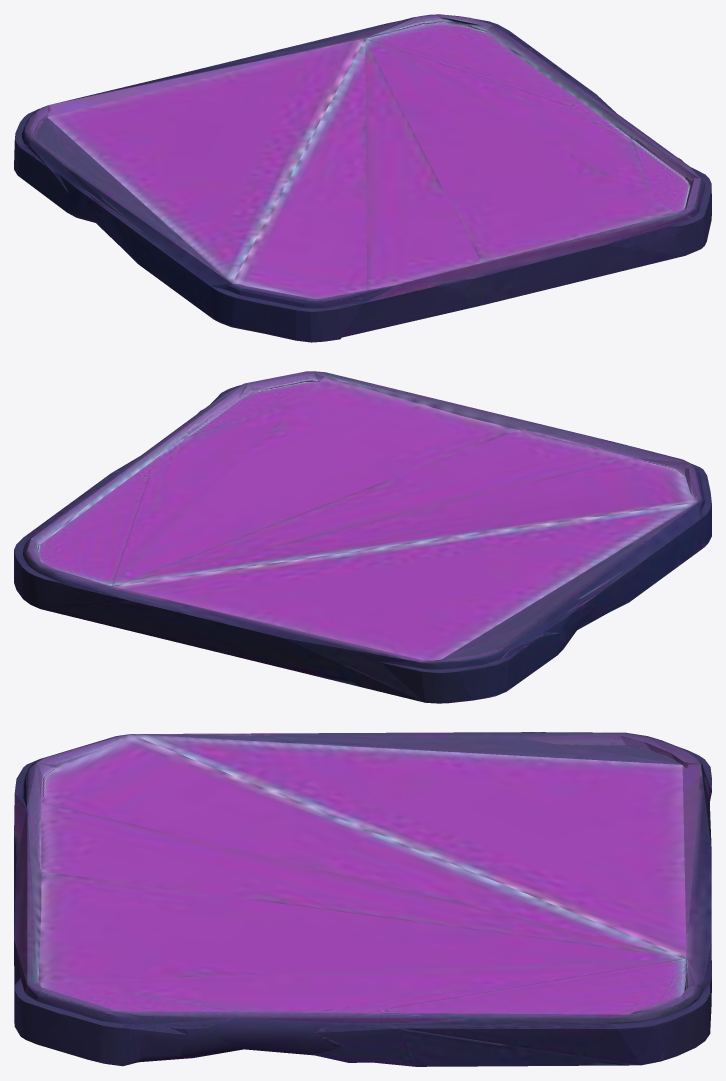
The model's file is floor.glb.
The picture shows the model from 3 angles, top to bottom: view 1: azimuth 30°, elevation 25°; view 2: azimuth 150°, elevation 25°; view 3: azimuth 270°, elevation 25°; orthographic projection. The views are drawn at different scales.
Parts seen in each view (by area): view 1: mesh_node; view 2: mesh_node; view 3: mesh_node.
Part boxes in pixels (left/top/right/bottom): mesh_node: left=14, top=14, right=711, bottom=342; mesh_node: left=14, top=371, right=711, bottom=703; mesh_node: left=14, top=732, right=711, bottom=1066.
Size of the model in its own units: 1.9 by 0.1407 by 1.9.
1 material, 1 textured.
